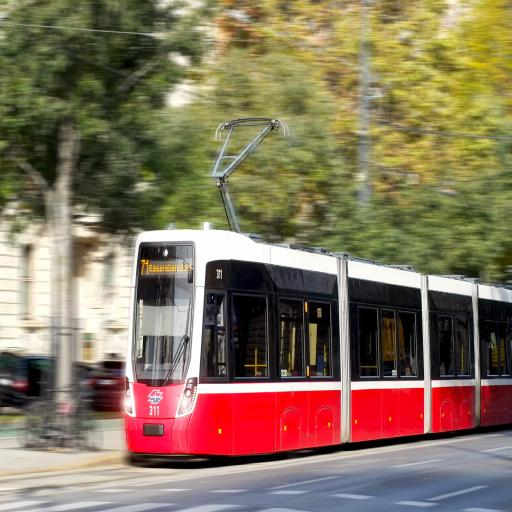Flexity: (117, 224, 512, 466)
